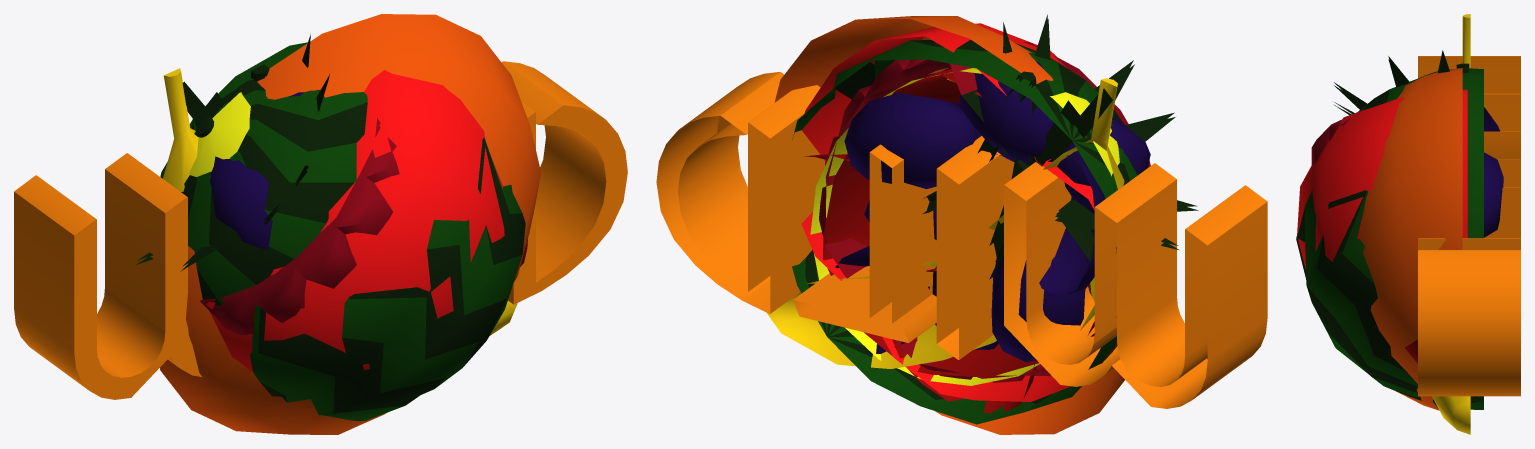
Rendered from fruits.fbx.
The picture shows the model from 3 angles, left to right: view 1: azimuth 30°, elevation 25°; view 2: azimuth 150°, elevation 25°; view 3: azimuth 270°, elevation 25°; orthographic projection. The views are drawn at different scales.
Parts seen in each view (by area): view 1: f_wa, f_w, f_or, f_ap, f_ra, f_gr, f_ba, f_le; view 2: f_w, f_gr, f_wa, f_or, f_ap, f_st, f_ra, f_ba, f_le, f_ch; view 3: f_w, f_or, f_wa, f_ap, f_gr, f_ba, f_ra, f_st, f_ch.
Boxes of the visible parts, x1,y1,x2,y2 form: f_wa: (160, 42, 525, 420); f_w: (14, 61, 627, 399); f_or: (160, 14, 540, 434); f_ap: (205, 70, 504, 371); f_ra: (136, 39, 399, 335); f_gr: (182, 81, 303, 250); f_ba: (163, 68, 517, 335); f_le: (189, 92, 250, 176); f_w: (656, 72, 1267, 408); f_gr: (835, 61, 1150, 362); f_wa: (792, 39, 1145, 424); f_or: (774, 16, 1124, 434); f_ap: (801, 23, 1117, 401); f_st: (823, 14, 1197, 377); f_ra: (819, 19, 1198, 382); f_ba: (767, 78, 1124, 368); f_le: (810, 68, 1119, 385); f_ch: (804, 71, 1036, 413); f_w: (1418, 56, 1520, 396); f_or: (1360, 68, 1462, 410); f_wa: (1296, 68, 1483, 409); f_ap: (1297, 89, 1467, 269); f_gr: (1433, 107, 1503, 408); f_ba: (1432, 14, 1470, 434); f_ra: (1311, 59, 1396, 166); f_st: (1334, 50, 1449, 113); f_ch: (1404, 63, 1469, 363).
Bounding box in the file's own units: 0.0932 × 0.0651 × 0.0385.
